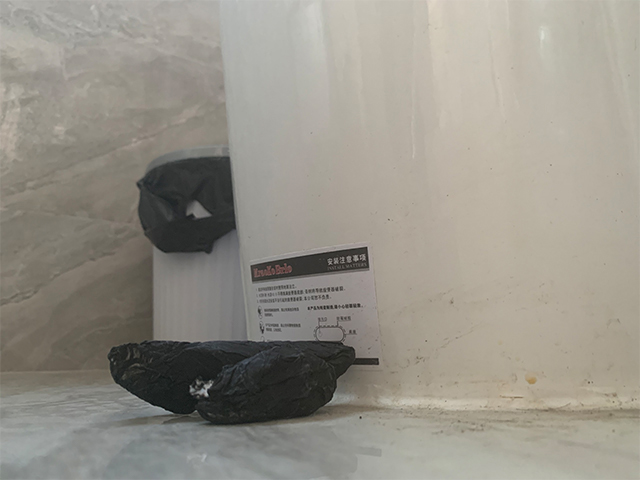feces: (108, 340, 358, 424)
trashcan: (138, 143, 245, 343)
